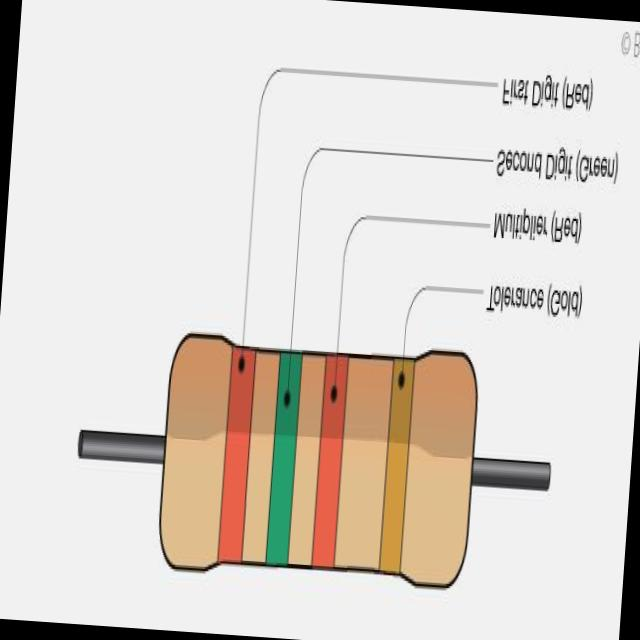Resistor: (134, 287, 497, 640)
